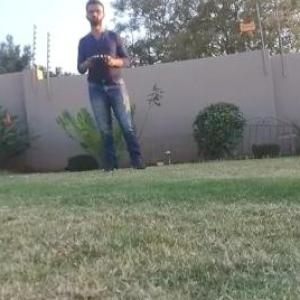follow: (72, 0, 153, 178)
